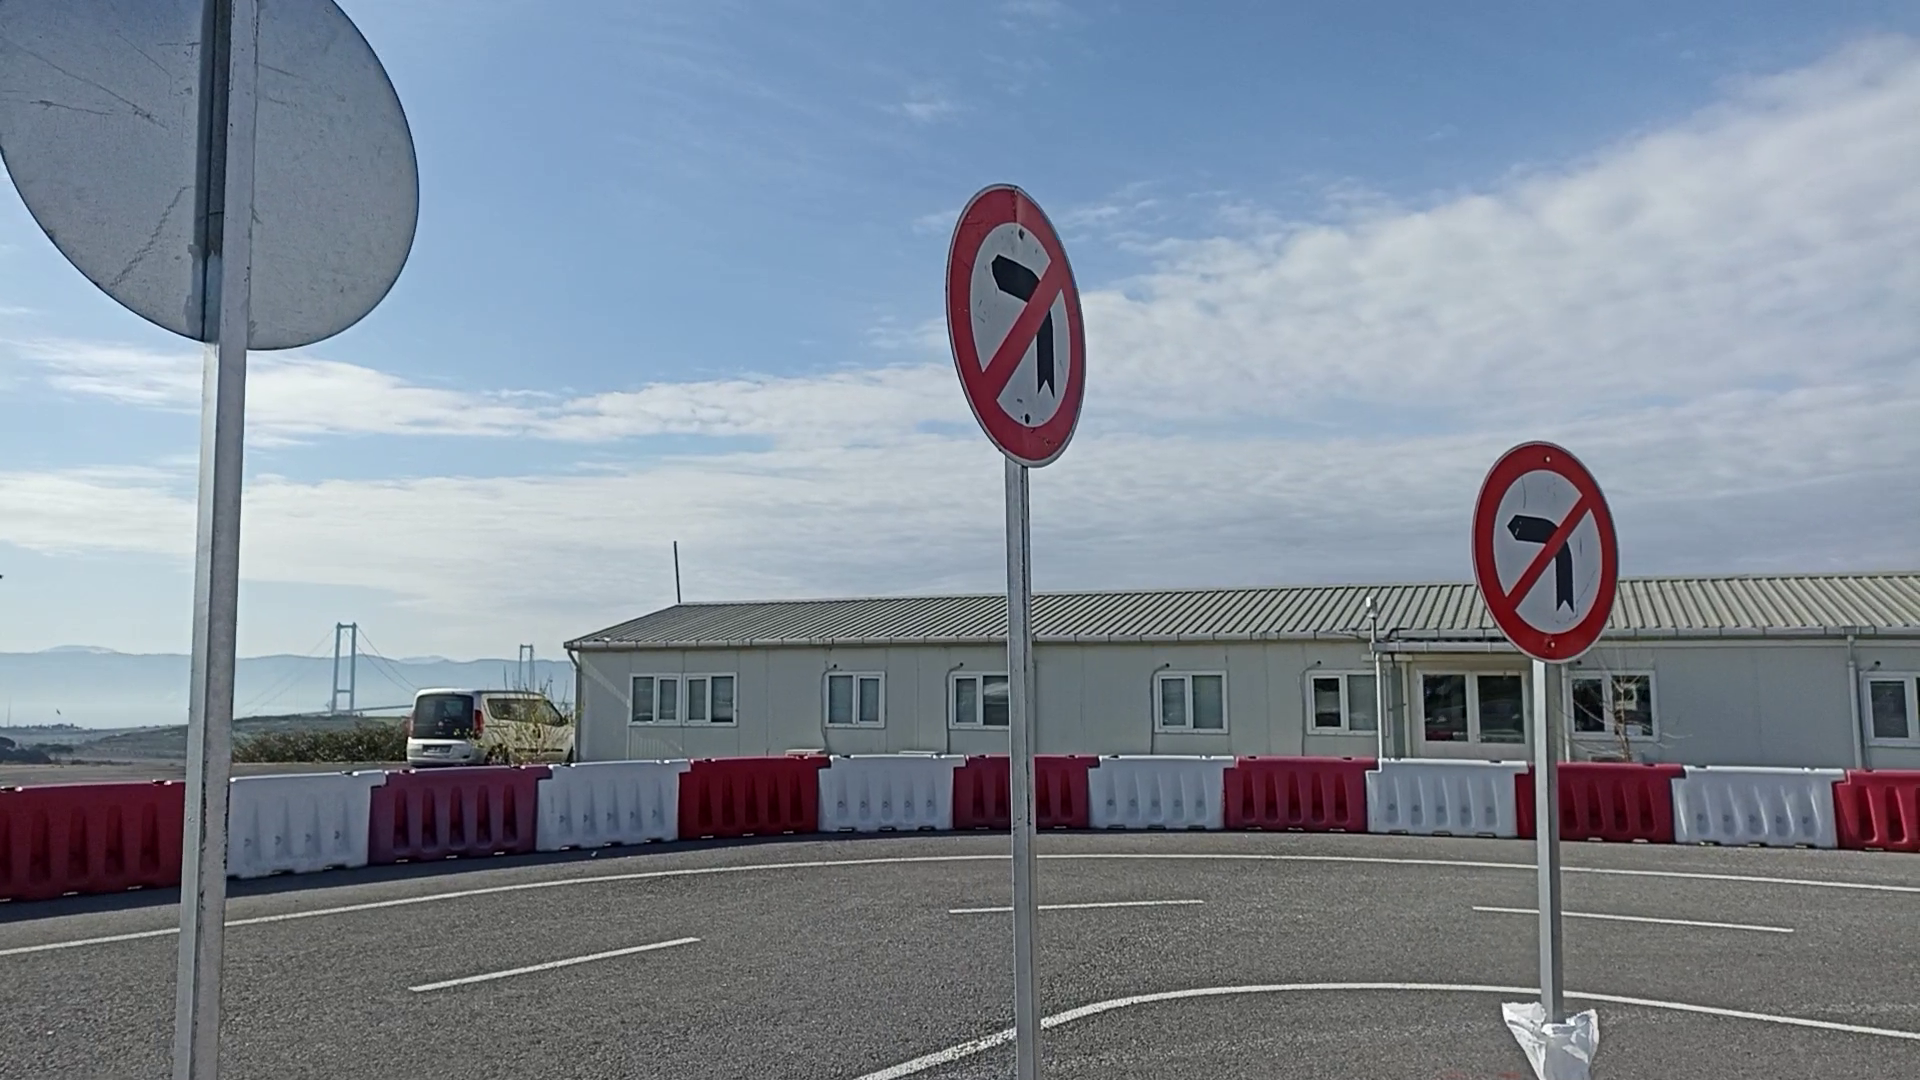noleft: (940, 181, 1091, 473), (1470, 438, 1623, 669)
